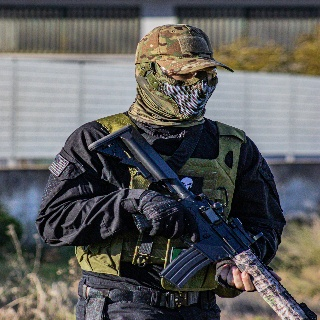rifle: (86, 124, 317, 320)
